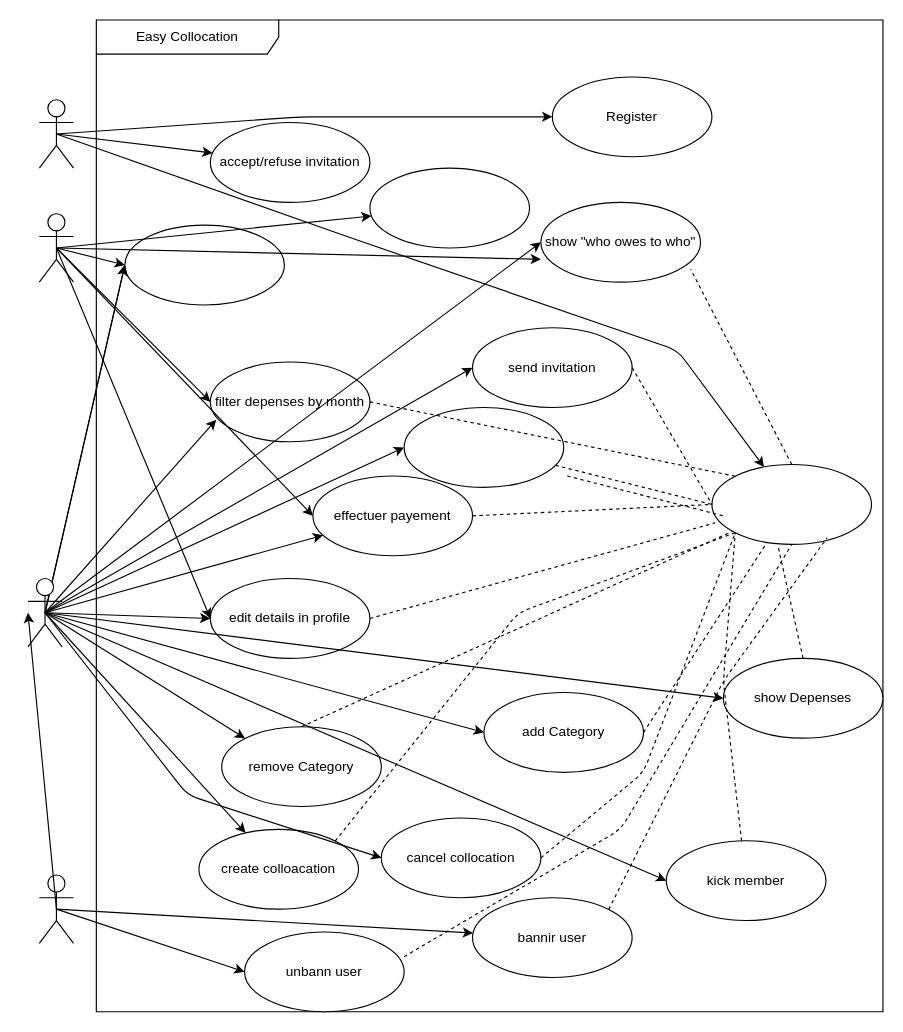
This 903x1032 diagram has some shape labels left out. The box of each missing label's shape, as (x1, y1, x2, y2) in pixels:
Add depenses: (403, 406, 564, 487)
Admin: (38, 874, 74, 943)
leave collocation: (369, 167, 530, 248)
Login: (711, 463, 872, 544)
logout: (124, 224, 284, 305)
Member: (38, 213, 74, 282)
Owner: (27, 577, 62, 647)
User: (38, 99, 74, 168)
